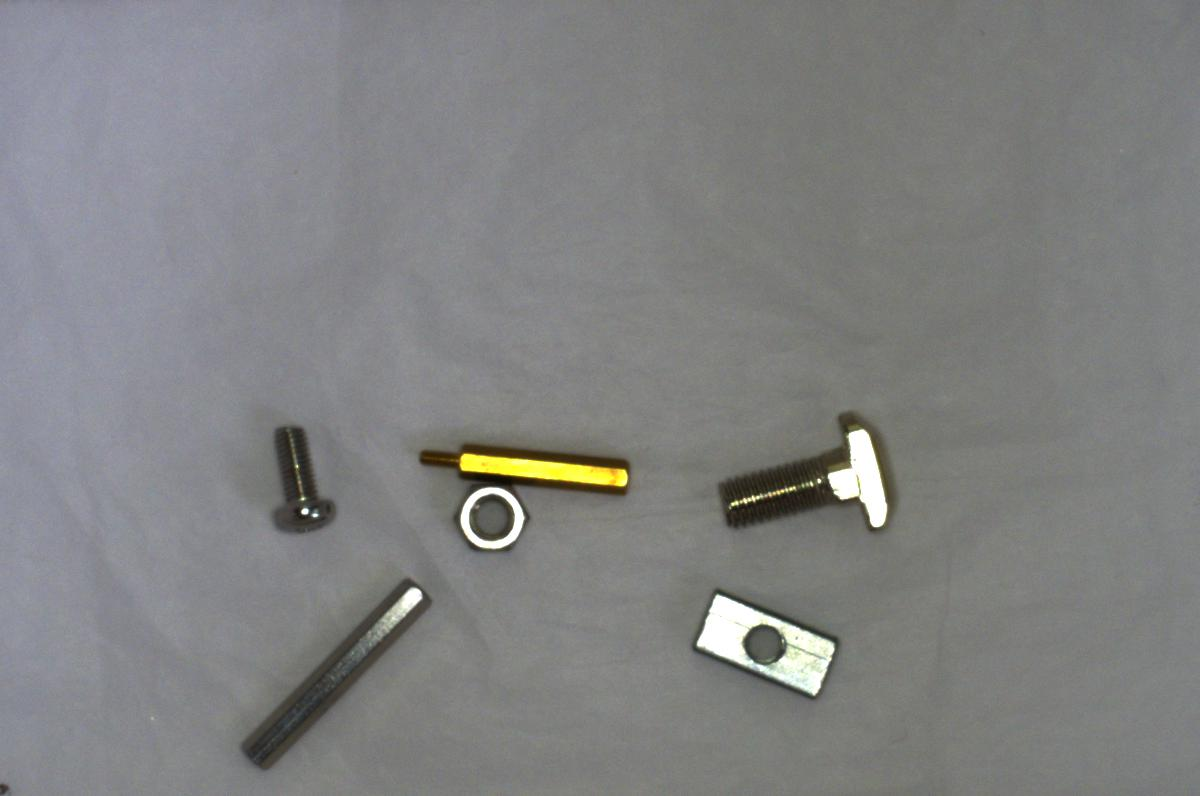Double hexagonal column: (233, 568, 438, 767)
Hexagon nut: (446, 478, 535, 558)
Hexagon pillar: (405, 433, 632, 500)
Rectangular nut: (688, 585, 841, 701)
Round head screw: (264, 421, 342, 533)
T-shaped screw: (718, 408, 898, 536)
